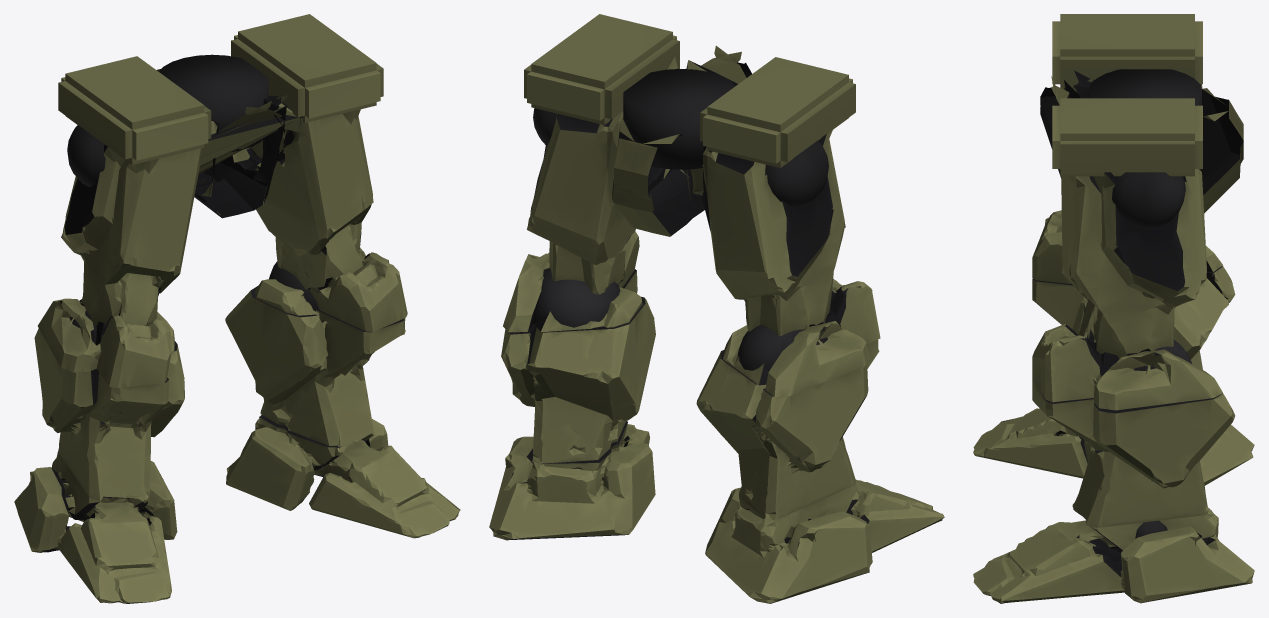
The model's file is recon_gen_legs.glb.
3 renders of one model, left to right at view 1: azimuth 30°, elevation 25°; view 2: azimuth 150°, elevation 25°; view 3: azimuth 270°, elevation 25°, orthographic. The views are drawn at different scales.
Visible parts, largest first — view 1: gen_thighR, gen_thighL, gen_shinL, gen_footL, gen_footR, gen_shinR, gen_thighCoverR, gen_thighCoverL, gen_pelvis, gen_capWaist, gen_capHipR, gen_capKneeL; view 2: gen_thighR, gen_shinR, gen_thighL, gen_footR, gen_shinL, gen_footL, gen_thighCoverR, gen_thighCoverL, gen_pelvis, gen_capWaist, gen_capKneeL, gen_capHipR (+2 smaller); view 3: gen_thighL, gen_footL, gen_shinL, gen_thighCoverL, gen_thighCoverR, gen_footR, gen_pelvis, gen_shinR, gen_capHipL, gen_capWaist, gen_thighR, gen_capKneeL.
Part boxes in pixels (x1=…): gen_thighR: x1=38, y1=144, x2=202, y2=387; gen_thighL: x1=250, y1=109, x2=407, y2=331; gen_shinL: x1=225, y1=286, x2=405, y2=446; gen_footL: x1=226, y1=415, x2=460, y2=538; gen_footR: x1=14, y1=452, x2=177, y2=603; gen_shinR: x1=34, y1=328, x2=184, y2=500; gen_thighCoverR: x1=58, y1=56, x2=211, y2=164; gen_thighCoverL: x1=231, y1=14, x2=383, y2=122; gen_pelvis: x1=156, y1=69, x2=300, y2=218; gen_capWaist: x1=158, y1=54, x2=268, y2=151; gen_capHipR: x1=67, y1=125, x2=105, y2=187; gen_capKneeL: x1=269, y1=261, x2=319, y2=310; gen_thighR: x1=707, y1=130, x2=880, y2=397; gen_shinR: x1=696, y1=339, x2=879, y2=520; gen_thighL: x1=503, y1=113, x2=642, y2=332; gen_footR: x1=705, y1=479, x2=944, y2=603; gen_shinL: x1=501, y1=269, x2=655, y2=463; gen_footL: x1=489, y1=421, x2=655, y2=540; gen_thighCoverR: x1=700, y1=57, x2=855, y2=167; gen_thighCoverL: x1=524, y1=14, x2=679, y2=124; gen_pelvis: x1=607, y1=45, x2=751, y2=236; gen_capWaist: x1=623, y1=69, x2=735, y2=169; gen_capKneeL: x1=533, y1=267, x2=620, y2=328; gen_capHipR: x1=766, y1=140, x2=828, y2=206; gen_thighL: x1=1032, y1=169, x2=1222, y2=410; gen_footL: x1=973, y1=503, x2=1254, y2=603; gen_shinL: x1=1032, y1=381, x2=1235, y2=527; gen_thighCoverL: x1=1052, y1=98, x2=1202, y2=176; gen_thighCoverR: x1=1052, y1=14, x2=1202, y2=89; gen_footR: x1=973, y1=408, x2=1254, y2=485; gen_pelvis: x1=1040, y1=70, x2=1243, y2=213; gen_shinR: x1=1032, y1=266, x2=1235, y2=369; gen_capHipL: x1=1112, y1=172, x2=1185, y2=228; gen_capWaist: x1=1088, y1=69, x2=1201, y2=105; gen_thighR: x1=1032, y1=84, x2=1222, y2=283; gen_capKneeL: x1=1131, y1=339, x2=1191, y2=370.
Size of the model in its own units: 5.21 by 6.08 by 3.48.
